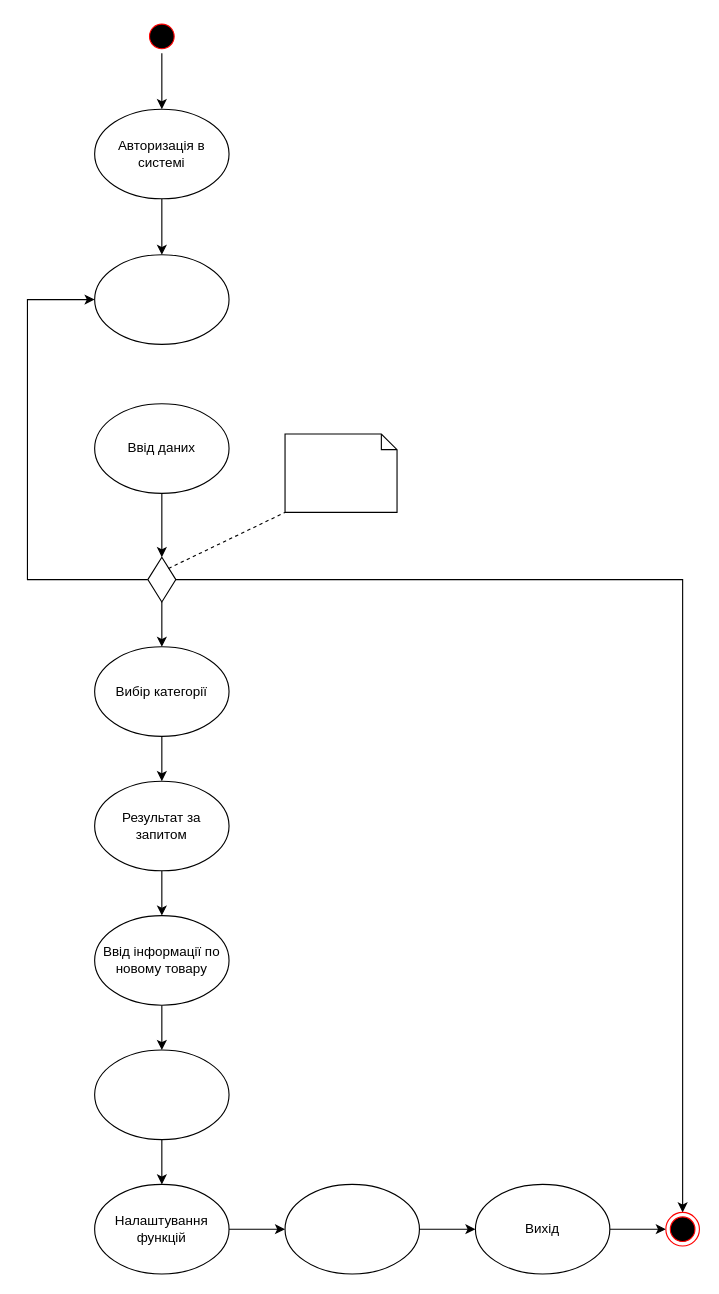
Image size: 719x1294. Some labels were removed from this diagram. Each missing label, with the box of its shape:
Додавання функцій: (94, 1049, 229, 1140)
Запит PIN-коду: (94, 254, 229, 344)
Запит системи: -Ввести знову -продовжити - вийти: (284, 433, 397, 512)
Збереження змін: (284, 1183, 419, 1274)
